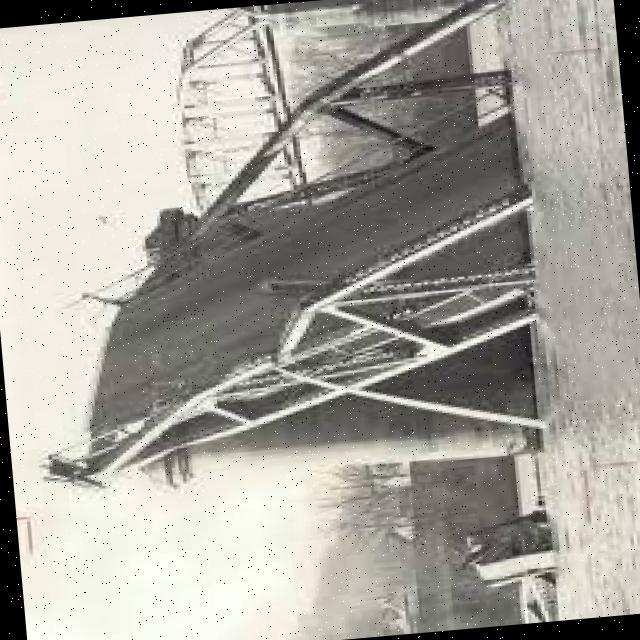bridge collapse: (1, 0, 628, 562)
